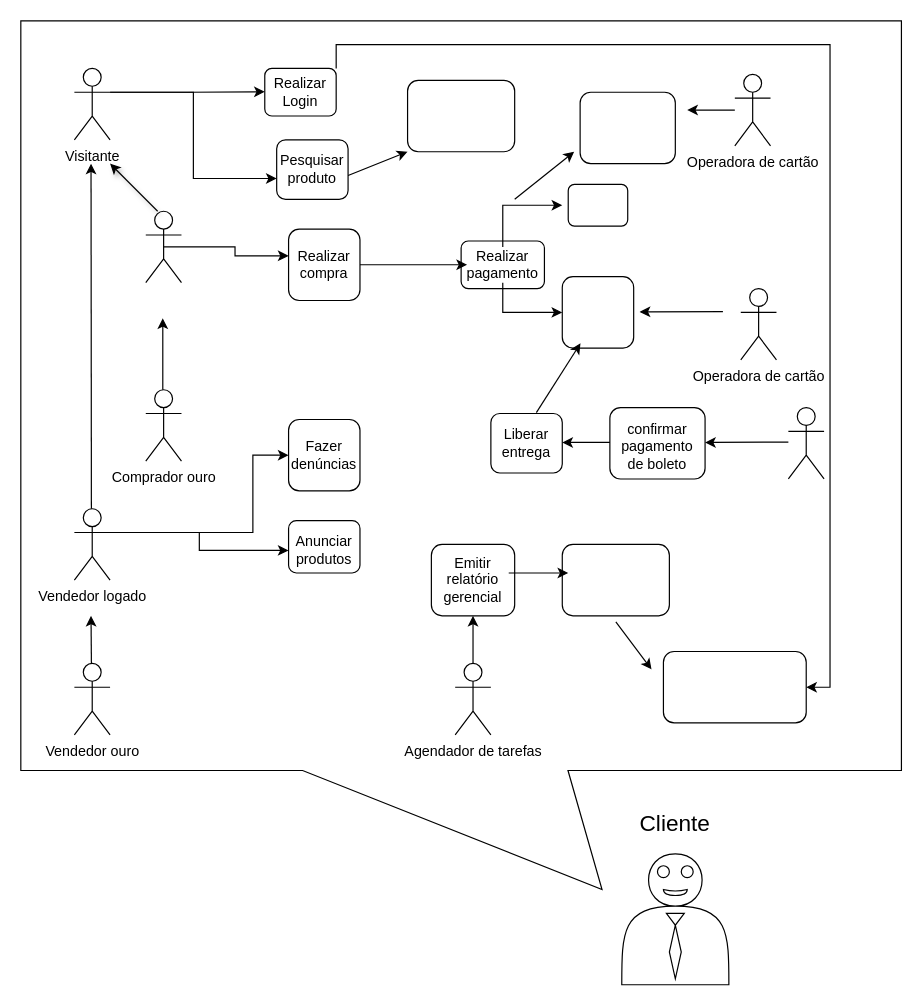
The diagram is 922 pixels wide and 1006 high, and some of its shapes have lost their labels. The centre of each missing label's shape, as x and y in pixels:
"Arquivar dados emitidos" belongs at pixel 615 579.
"Banco" belongs at pixel 805 442.
"Banco de Dados" belongs at pixel 734 686.
"Boleto" belongs at pixel 597 204.
"Cartão de crédito" belongs at pixel 597 311.
"Cartão de débito" belongs at pixel 627 127.
"Comprador logado" belongs at pixel 163 246.
"Favoritar produtos" belongs at pixel 460 115.
